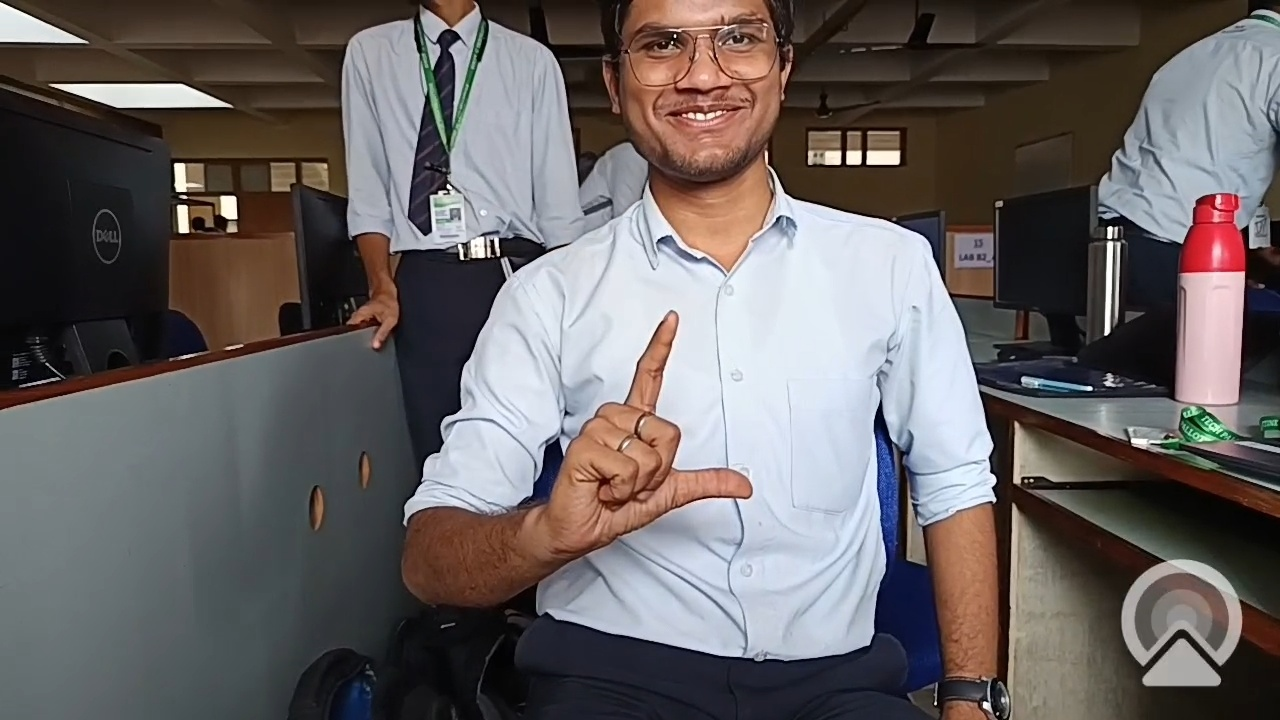L: (542, 285, 758, 589)
